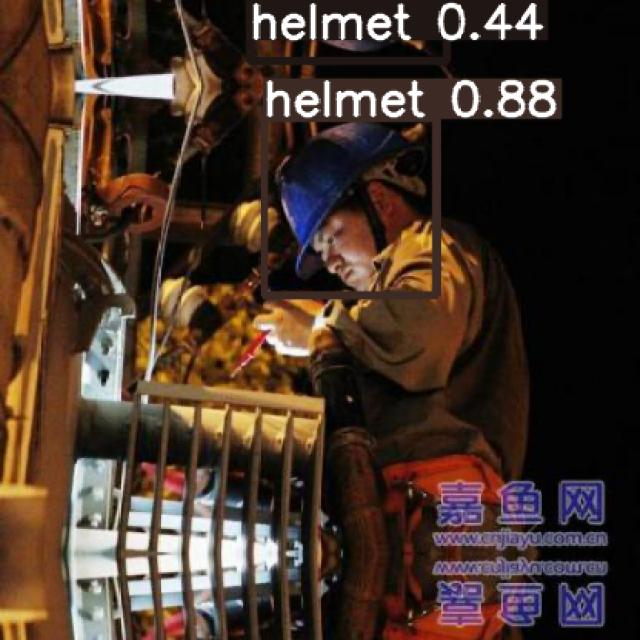helmet: (263, 117, 435, 295), (249, 0, 446, 60)
